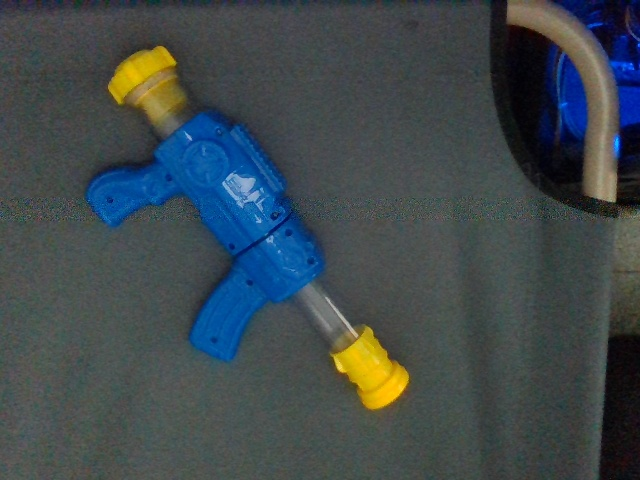screw hole: (271, 211, 281, 221), (307, 257, 317, 266), (211, 336, 219, 345), (106, 196, 114, 204), (216, 127, 224, 135), (165, 174, 172, 183), (229, 243, 236, 251), (246, 279, 254, 286), (285, 229, 293, 236)
toy: (85, 44, 410, 410)
